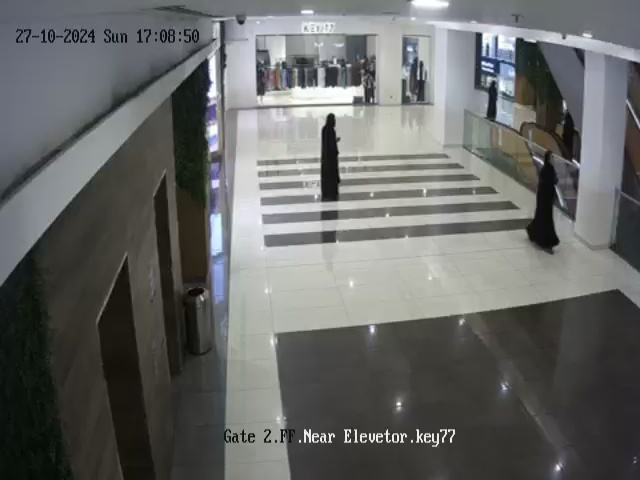female: (311, 95, 345, 214), (528, 146, 563, 252), (485, 70, 501, 136)
other: (412, 53, 433, 110), (358, 63, 382, 112)
